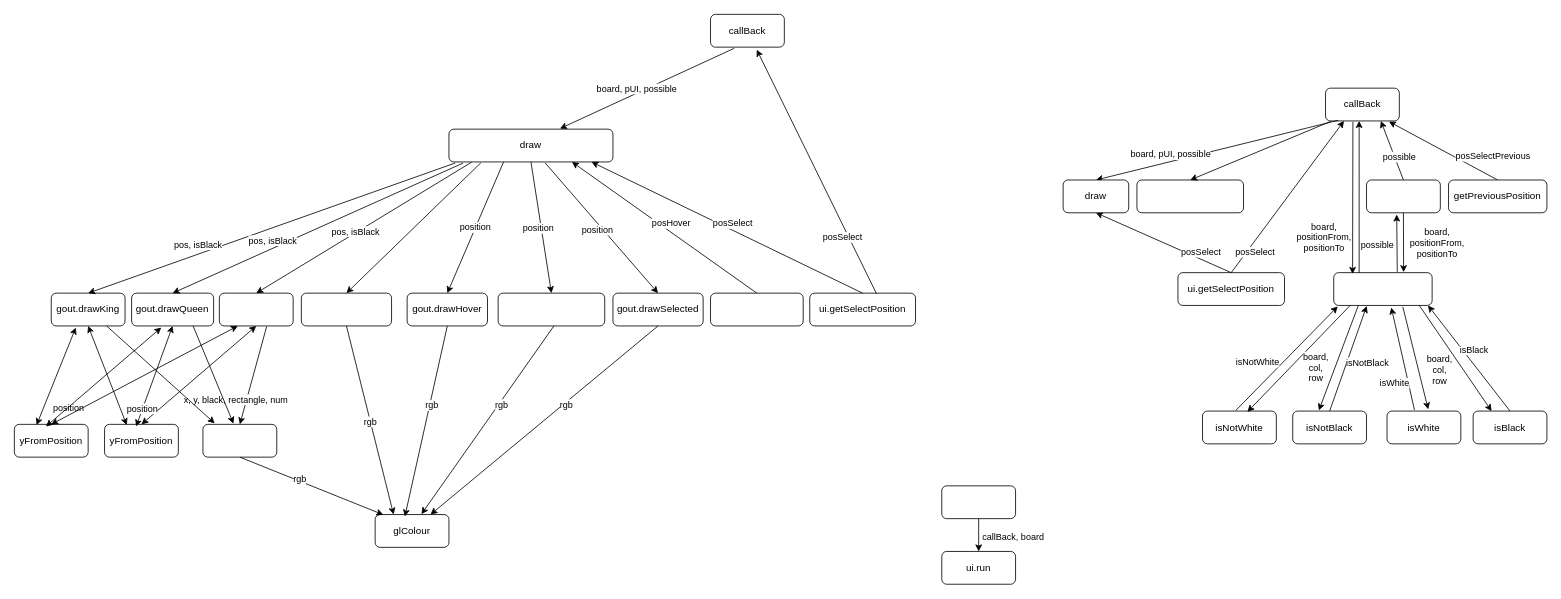
Some shapes in this 1561 by 599 pixel diagram are drawn without their labels. The centre of each missing label's shape, as x and y in pixels:
"clearSelectedPosition" goes at (1190,196).
"drawPiece" goes at (239,440).
"getPossibleMoves" goes at (1382,288).
"gout.draw...." goes at (256,309).
"gout.drawBoard" goes at (346,309).
"gout.drawPossible" goes at (551,309).
"Main" goes at (978,502).
"move" goes at (1403,196).
"ui.getHoverPosition" goes at (756,309).
